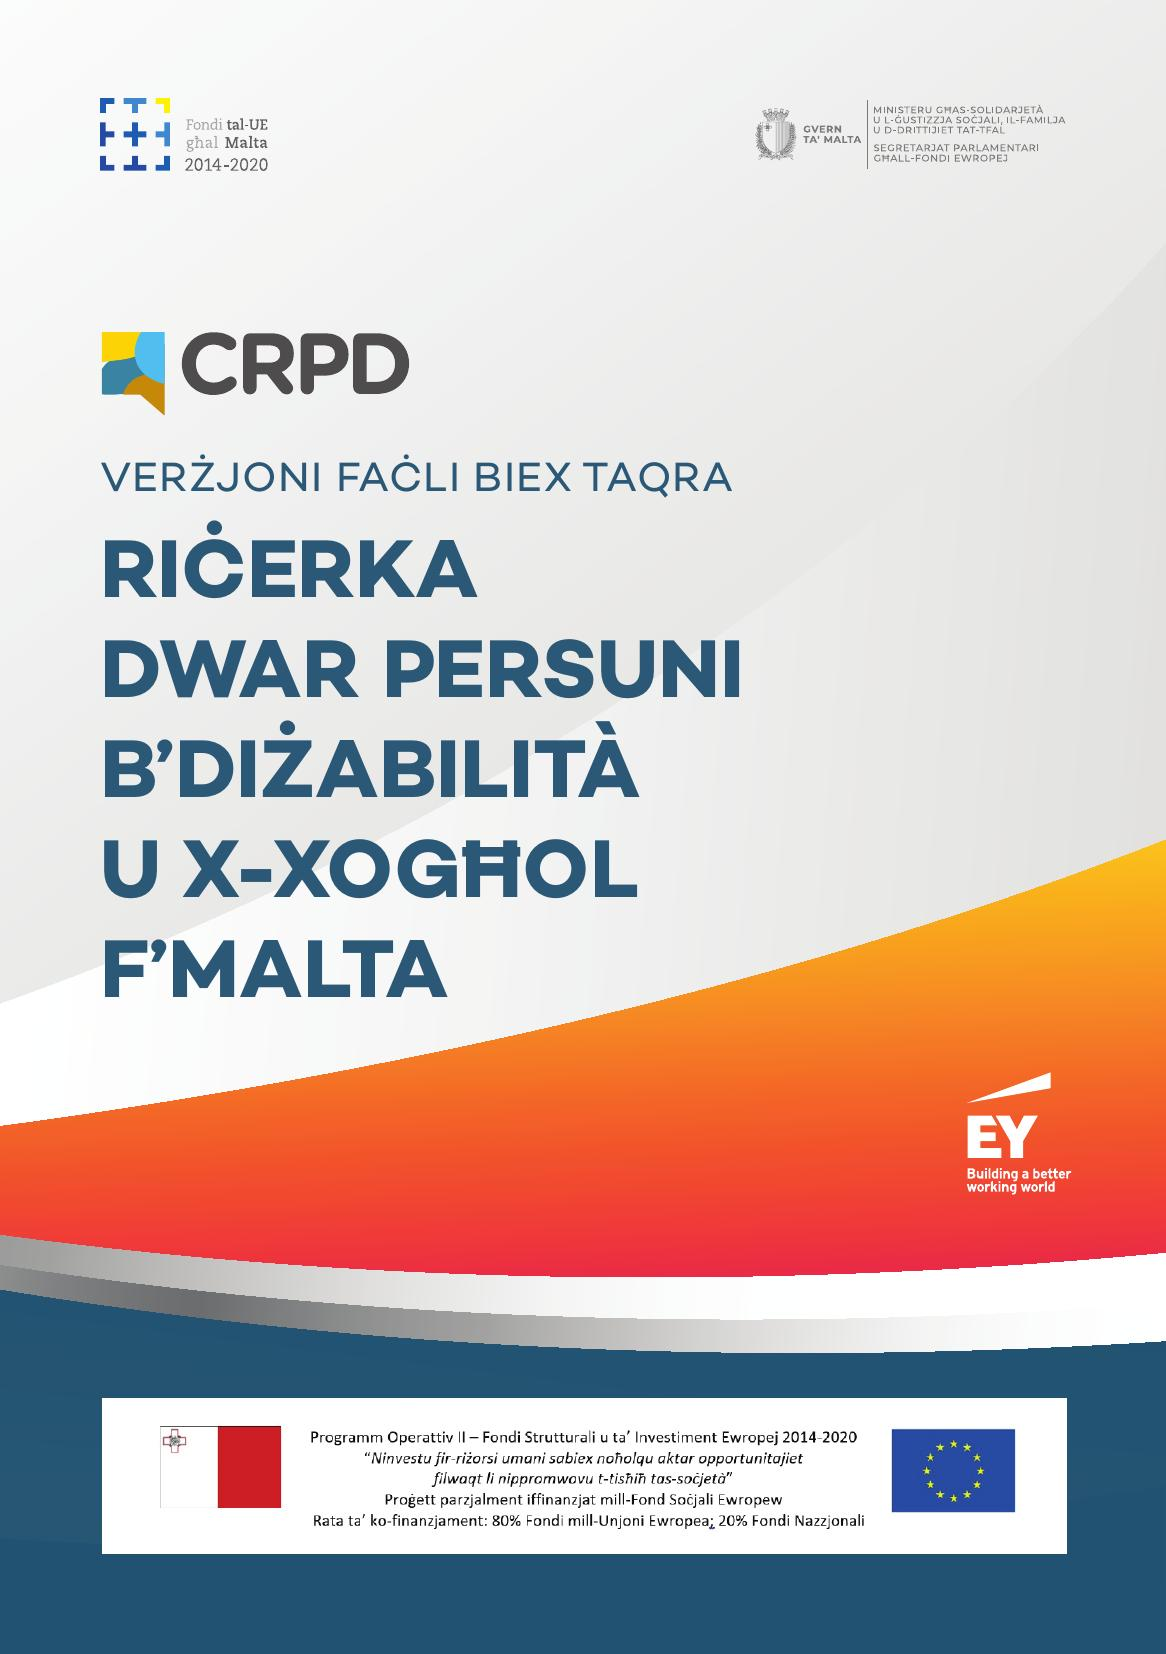text: (90, 443, 763, 1052)
